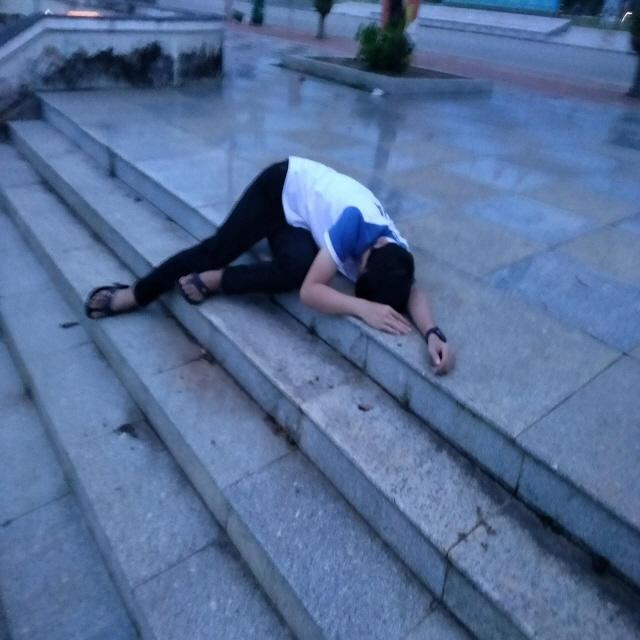Fall: (84, 156, 456, 374)
